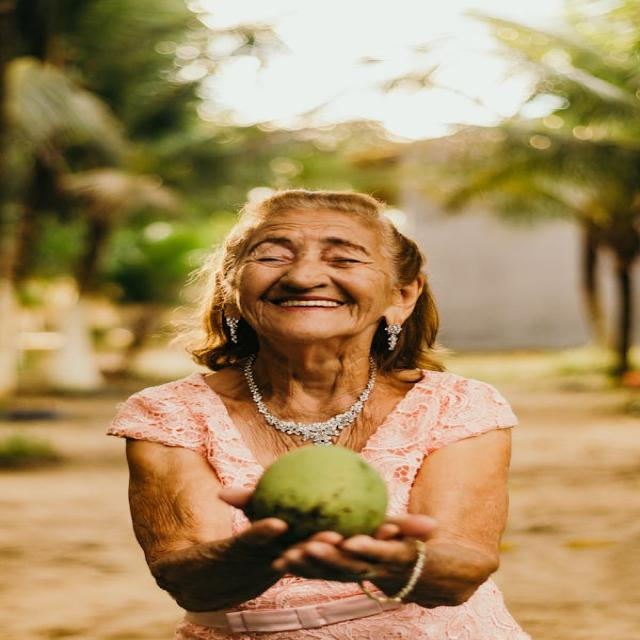Real human 2: (111, 171, 540, 640)
